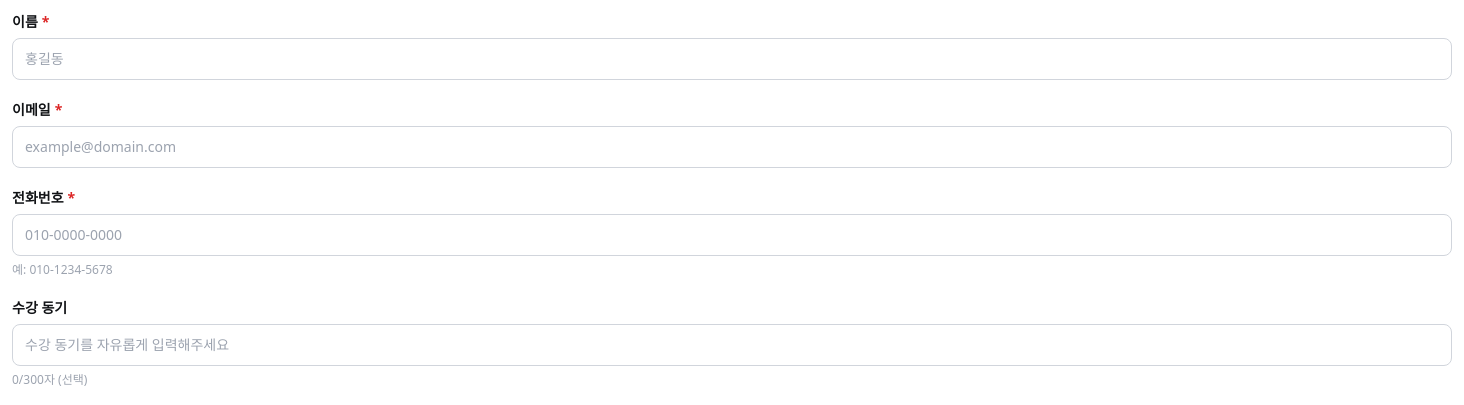
Test: ApplicantFields › 수강 동기 카운터 + maxLength
The width and height of the screenshot is (1464, 405).
Expected: the text "0/300자 (선택)" is shown, [12,371,87,388]
Type "테스트 동기" into the field with placeholder "수강 동기를 자유롭게 입력해주세요" at (732, 345), box [12,324,1452,366]
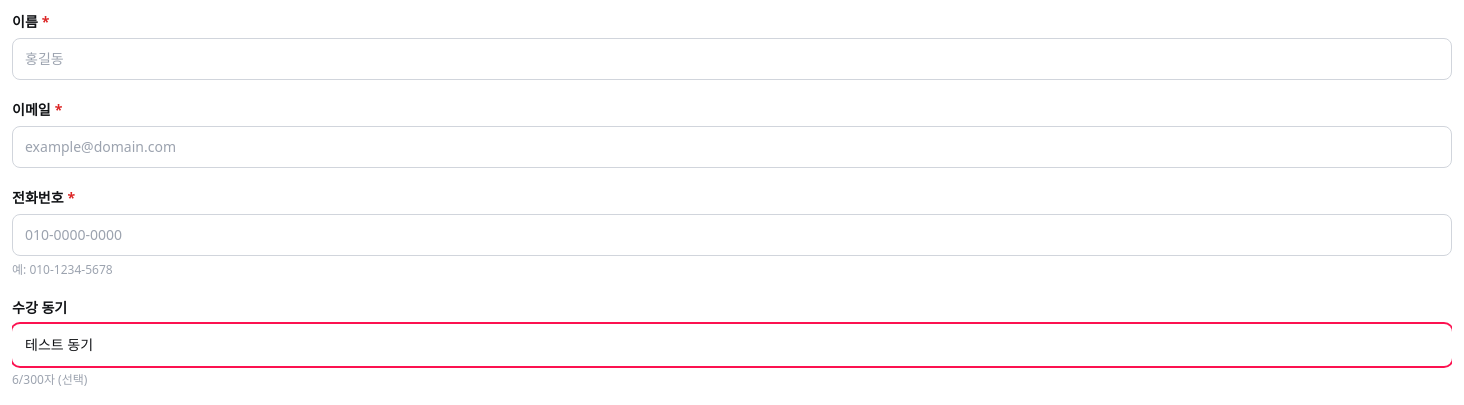
Expected: the text "6/300자 (선택)" is shown, [12,371,87,388]
